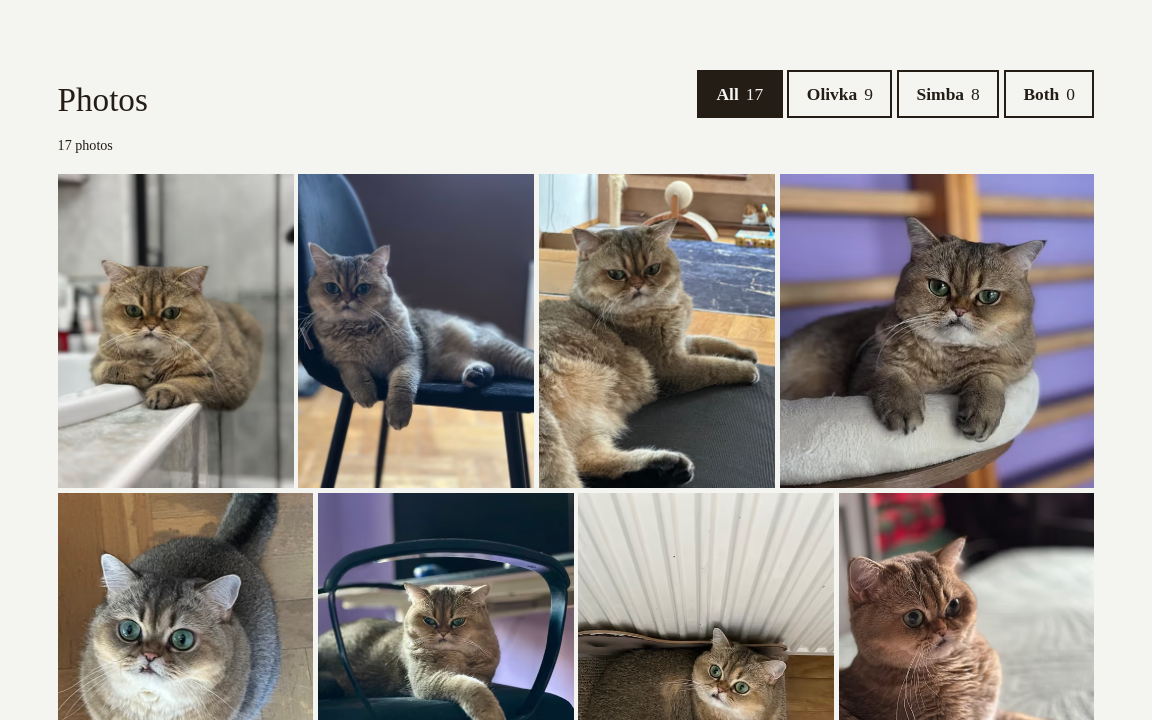
Test: Gallery filter › moves between filters with arrow keys, like any radio group
This screenshot has width=1152, height=720.
Click the radio button labelled "All 17". click: (740,94)
box: [697, 70, 783, 118]
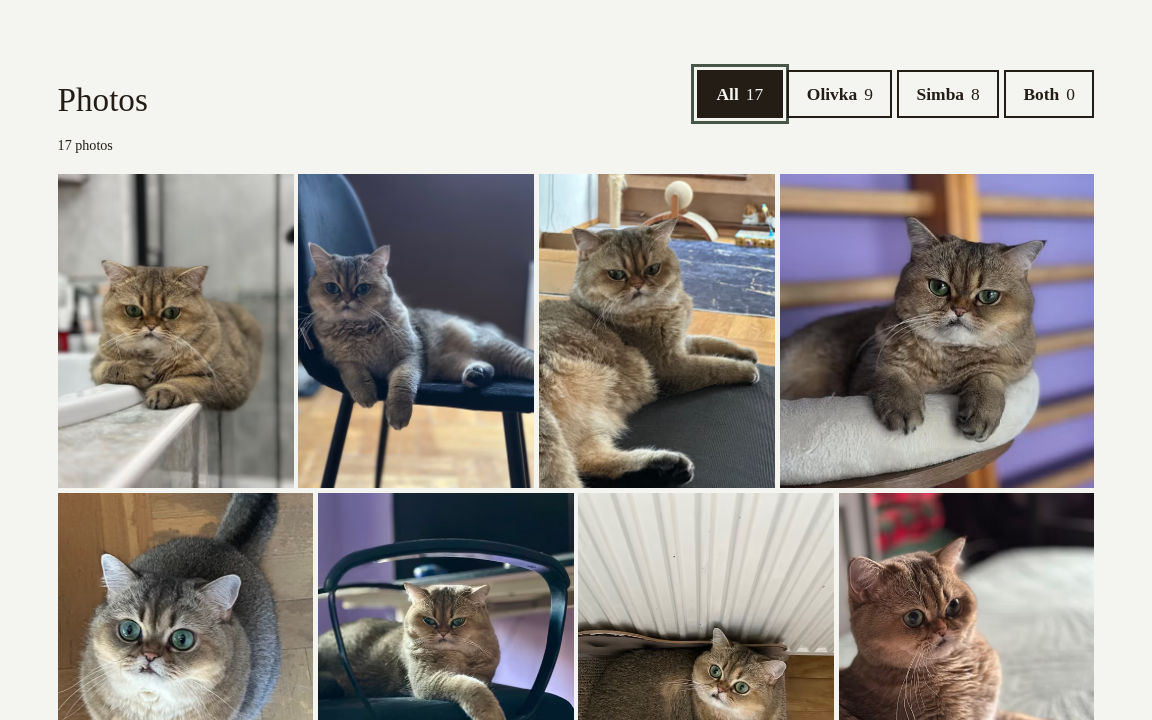
Press Arrowright
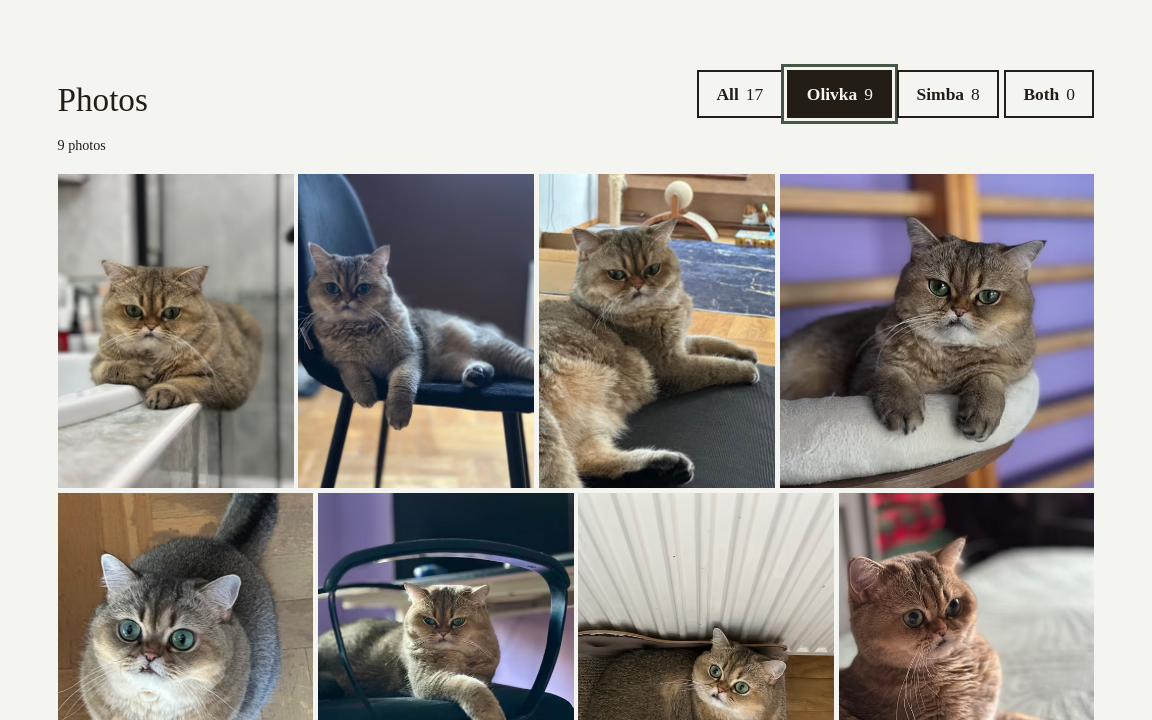
Now the radio button labelled "Olivka 9" is checked, box [787, 70, 892, 118]
